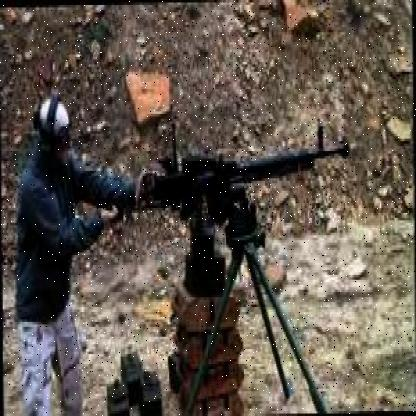rifle: (151, 134, 359, 220)
